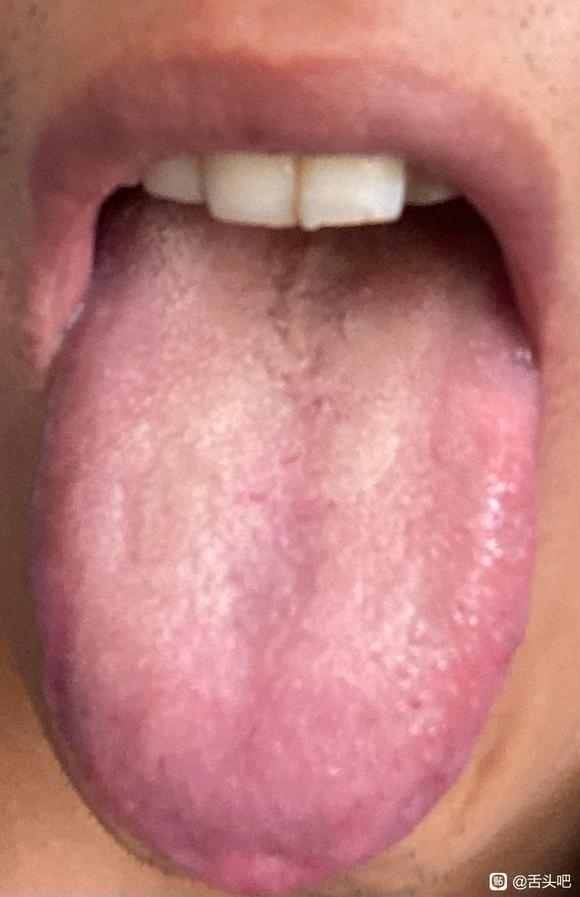huangtaishe: (26, 200, 536, 897)
liewenshe: (260, 230, 354, 352)
zishe: (27, 200, 537, 897)
